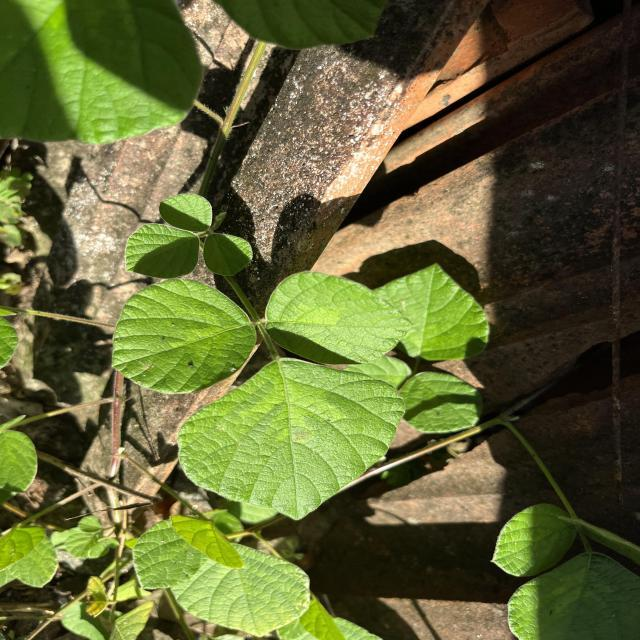Pseudarthria viscida: (108, 269, 414, 523), (124, 192, 254, 280)
